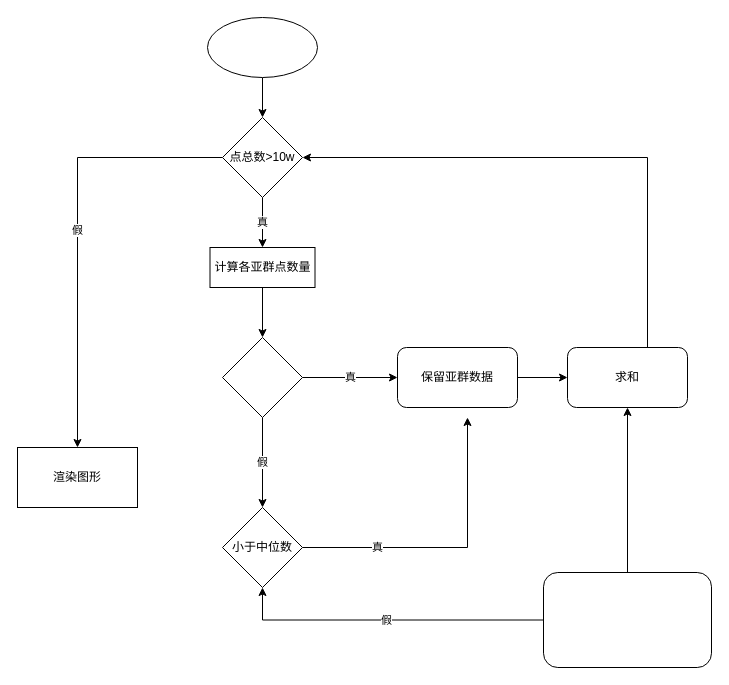
Some shapes in this 729 by 685 pixel diagram are drawn without their labels. The shapes that lost their labels are listed below. From the top down, each one's box as (x1, y1, x2, y2) in pixels, then its label:
(206, 16, 318, 78): 开始
(222, 336, 302, 418): 小于1w
(542, 572, 712, 668): 拟合点
